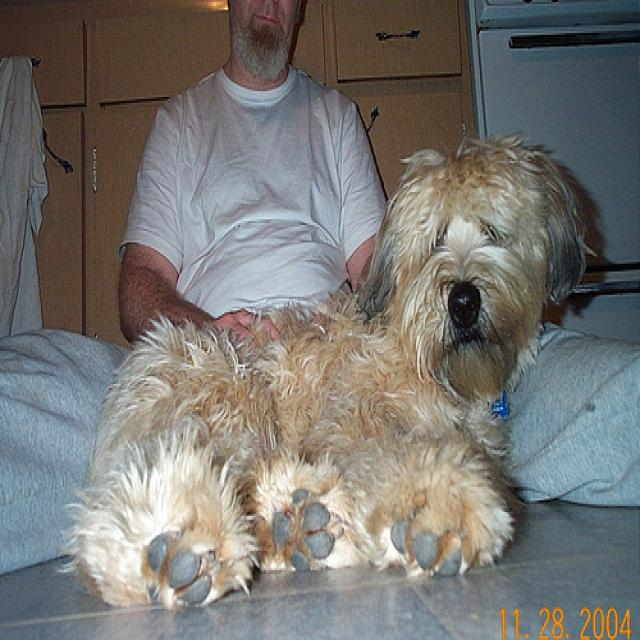dog-wheaten_terrier: (67, 134, 590, 621)
